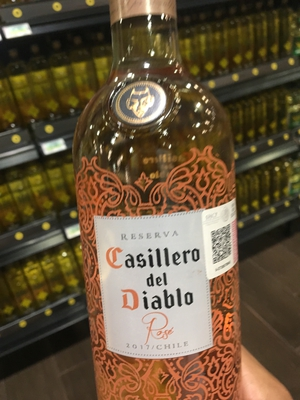casillero del diablo rose: (59, 4, 243, 400)
